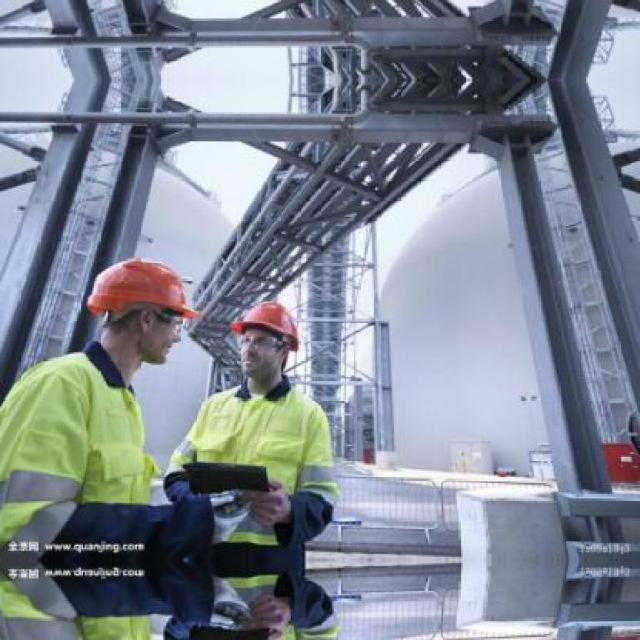helmet: (77, 248, 203, 368), (224, 291, 305, 389)
